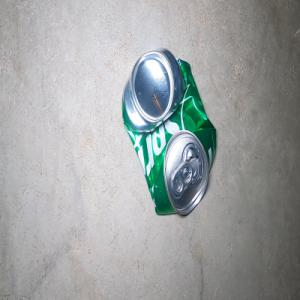SodaCan: (121, 47, 216, 215)
